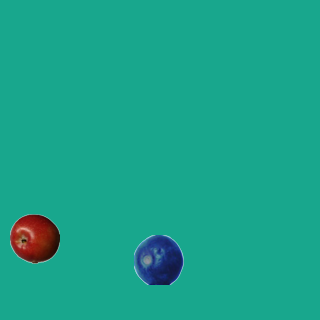Apple Braeburn: (9, 213, 59, 263)
Huckleberry: (133, 234, 183, 284)
